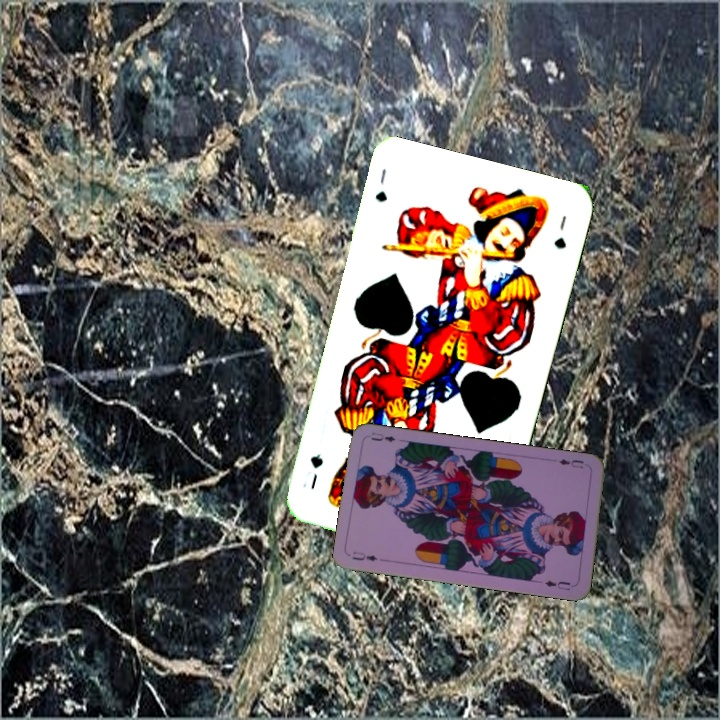EU: (348, 547, 380, 564), (554, 455, 586, 471)
GU: (371, 164, 390, 205)
